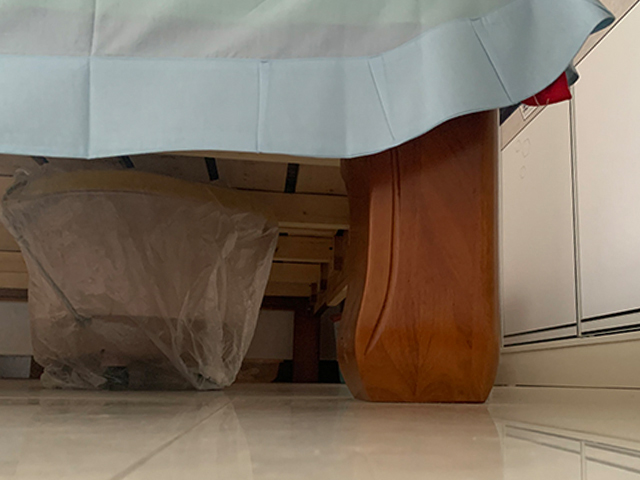bed: (1, 1, 615, 404)
cabinet: (500, 1, 640, 387)
